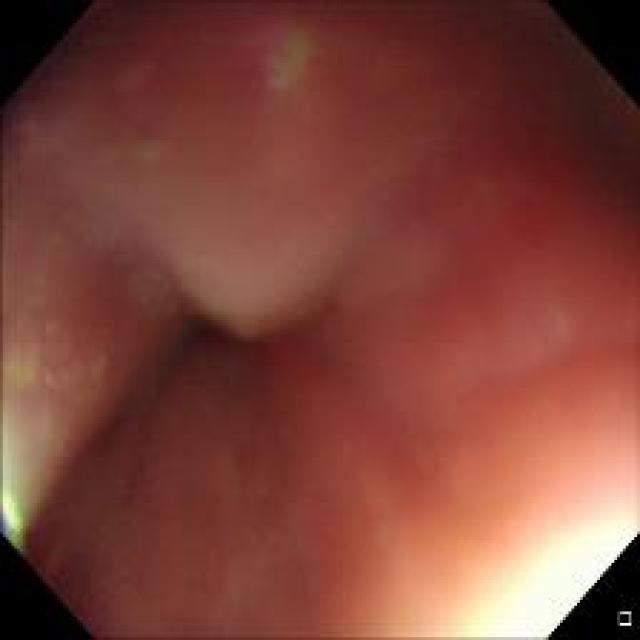blur: (1, 2, 636, 636)
color misalignment: (2, 451, 38, 546), (264, 38, 320, 98)
saturation: (469, 514, 634, 632)
